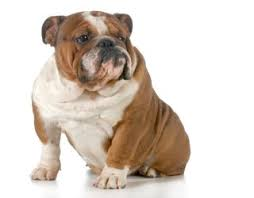Bulldog: (26, 8, 200, 188)
